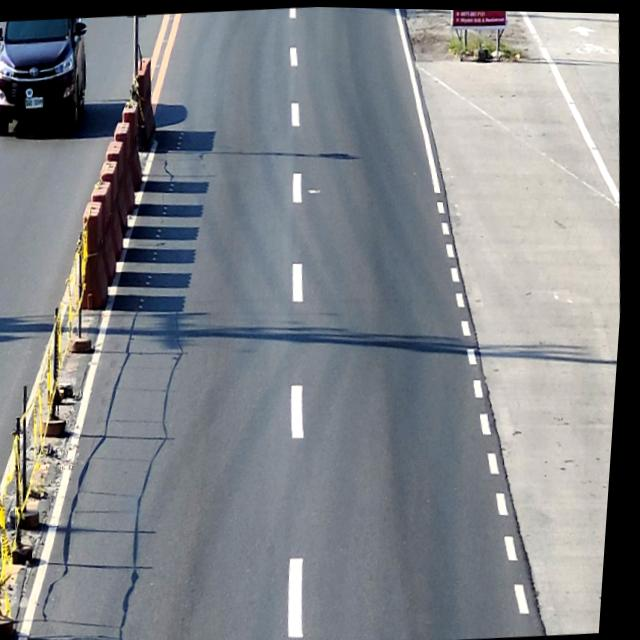Car: (0, 15, 94, 139)
License-Plate: (25, 96, 44, 108)
